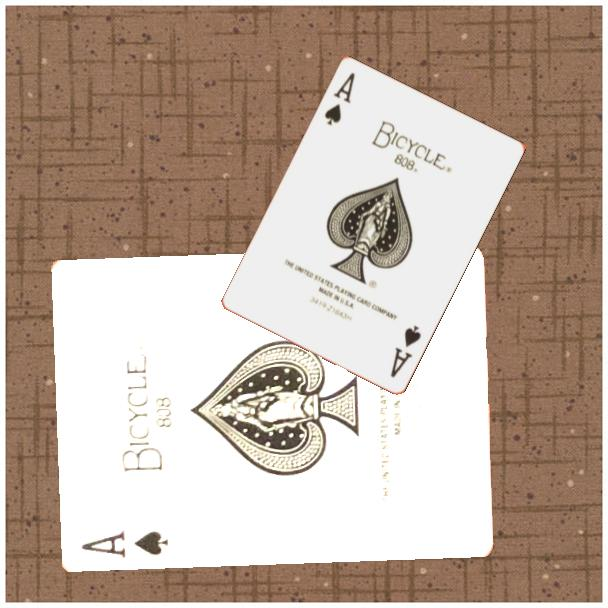s01: (77, 527, 170, 561), (320, 68, 358, 128), (387, 321, 424, 380)
